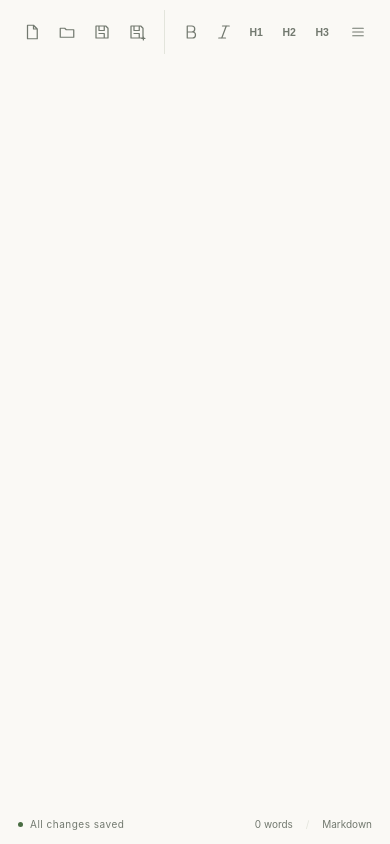
Test: two writing modes › provides a compact header menu for narrow windows
This screenshot has width=390, height=844.
Click the button named "Header options" at [358, 32], box top-left (342, 16), bottom-right (374, 48)
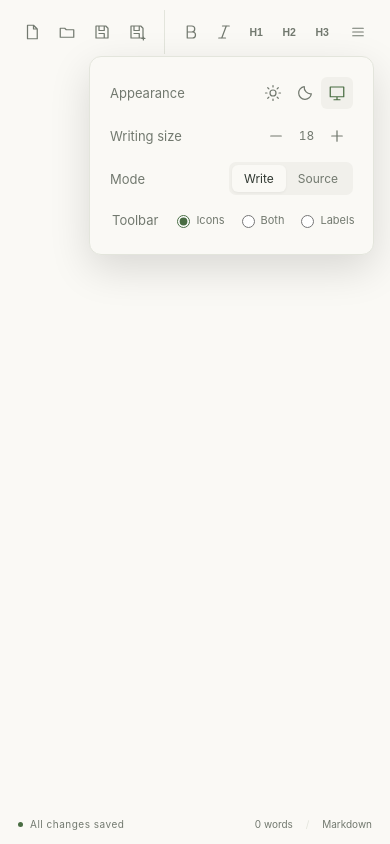
Check: the element named "Header options" shows "Appearance", box top-left (110, 84), bottom-right (185, 100)
Check: the element named "Header options" shows "Writing size", box top-left (110, 128), bottom-right (182, 144)
Check: the element named "Header options" shows "Write", box top-left (232, 165), bottom-right (286, 192)
